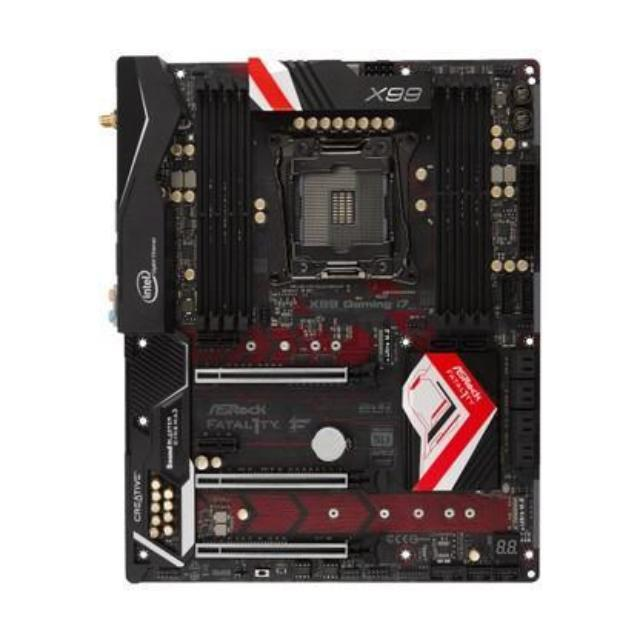Mainboard: (91, 38, 564, 598)
